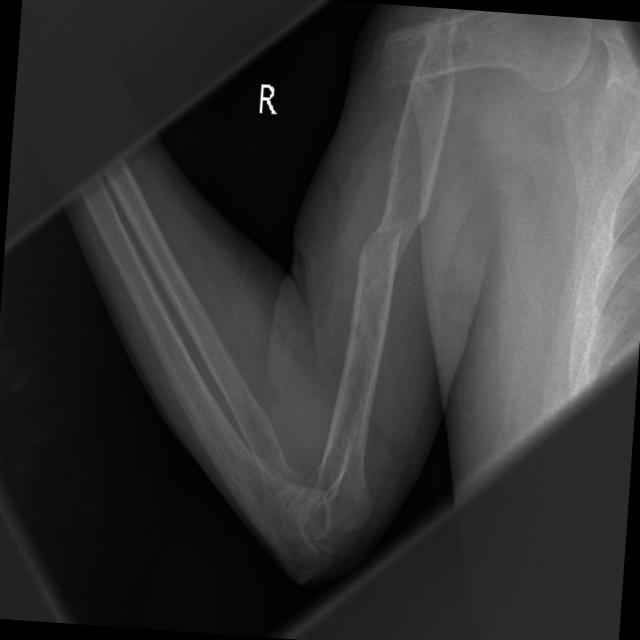humerus fracture: (307, 195, 455, 395), (366, 2, 485, 138)
